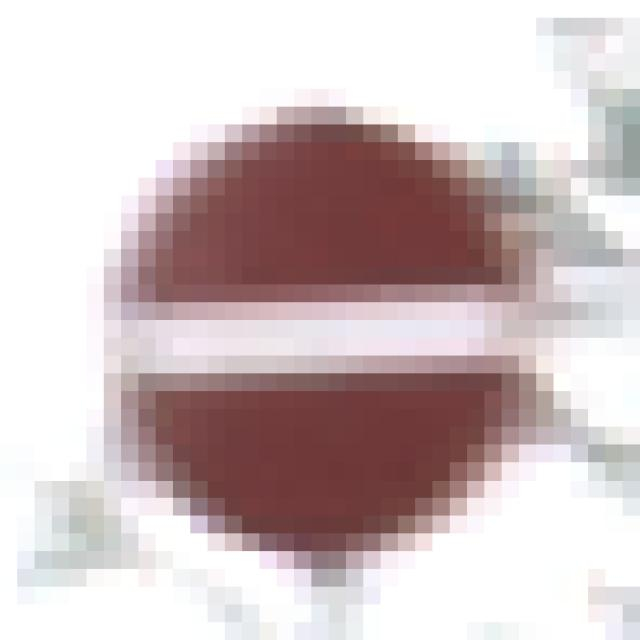No Entry: (88, 90, 537, 552)
